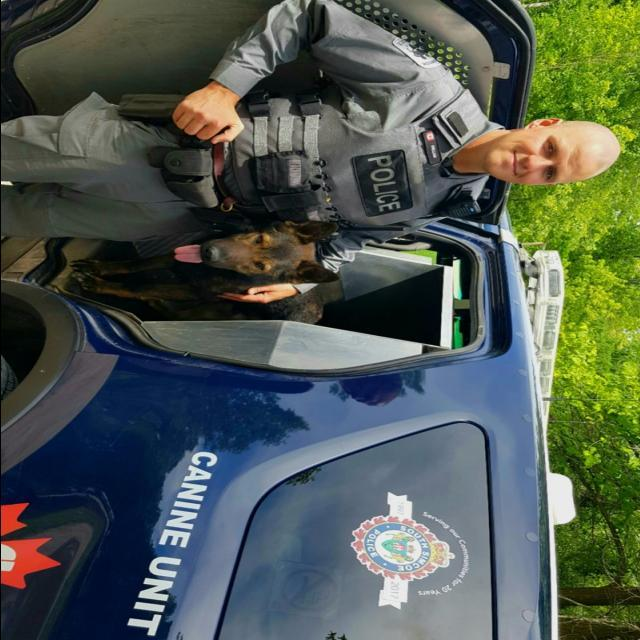Dogs: (67, 216, 344, 376)
